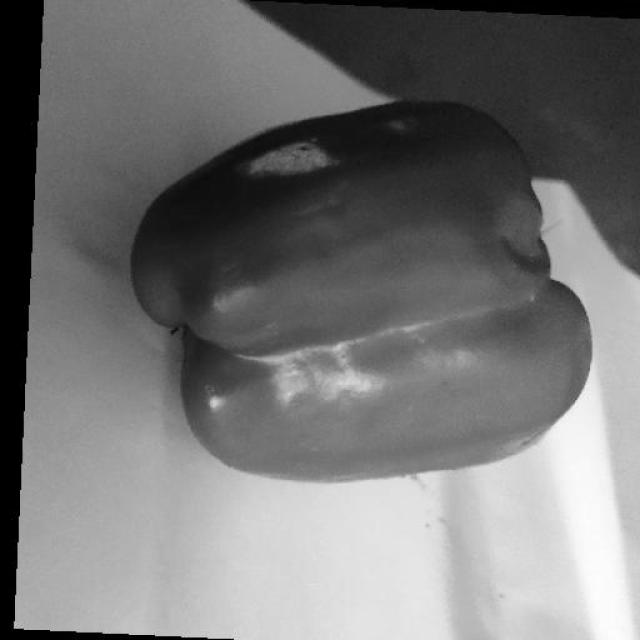Stale_Capsicum: (111, 105, 586, 473), (186, 128, 397, 275)
